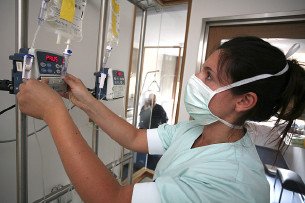face_mask: (183, 49, 233, 122)
